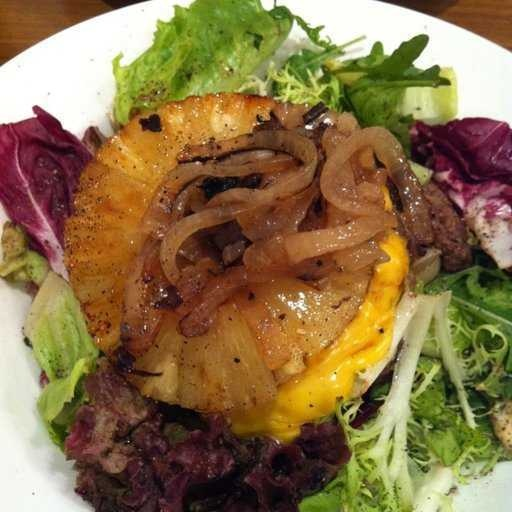hamburger: (72, 47, 410, 417)
